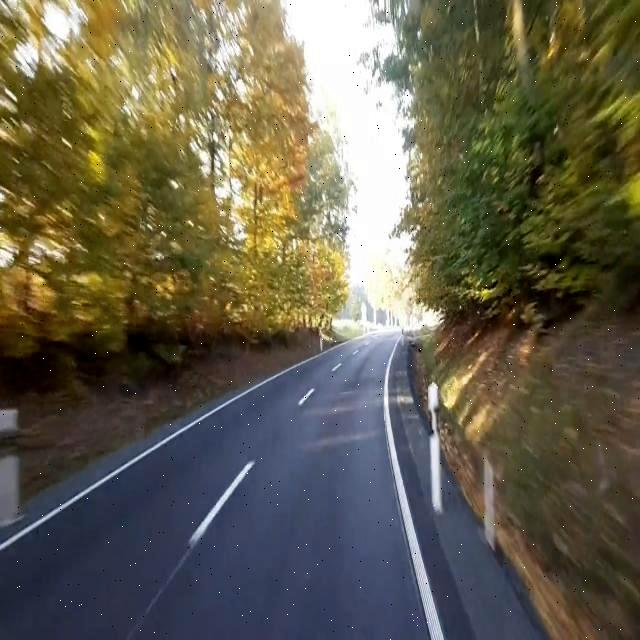lane: (0, 353, 322, 551), (384, 342, 444, 639), (189, 461, 254, 548), (298, 388, 314, 406)
road: (0, 332, 546, 639)
